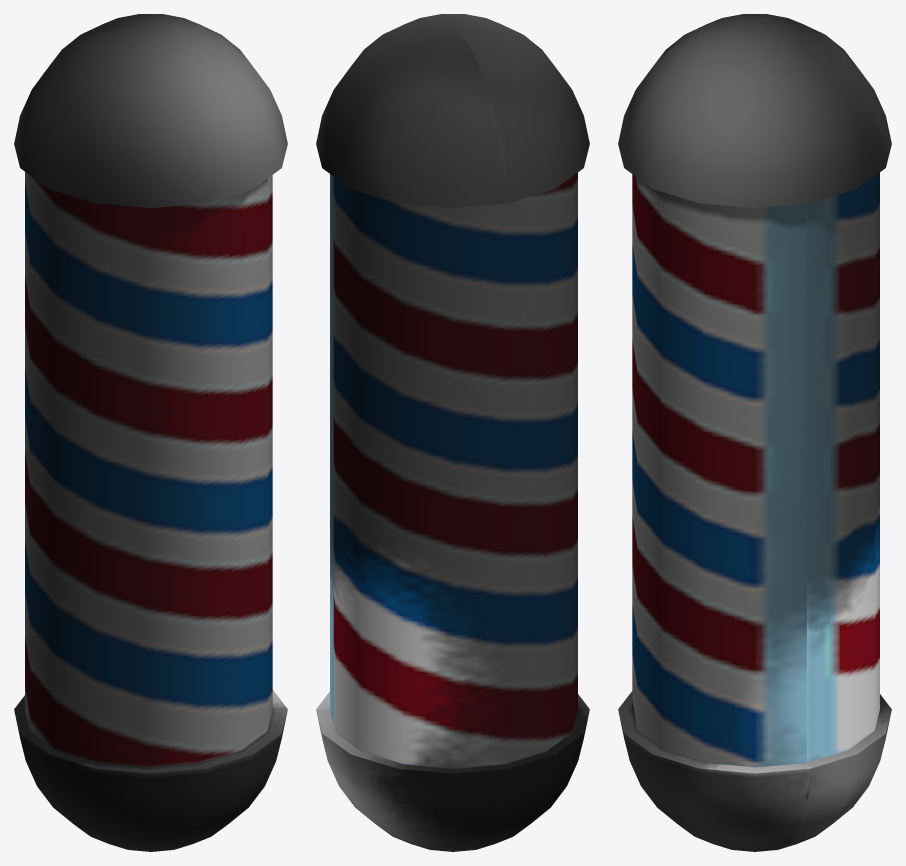
The model's file is Tx_prop_barber_s_pole_3.fbx.
The picture shows the model from 3 angles, left to right: view 1: azimuth 30°, elevation 25°; view 2: azimuth 150°, elevation 25°; view 3: azimuth 270°, elevation 25°; orthographic projection.
Parts seen in each view (by area): view 1: Tx_prop_barber_s_pole; view 2: Tx_prop_barber_s_pole; view 3: Tx_prop_barber_s_pole.
Boxes of the visible parts, x1,y1,x2,y2 form: Tx_prop_barber_s_pole: [14, 14, 287, 851]; Tx_prop_barber_s_pole: [316, 14, 589, 851]; Tx_prop_barber_s_pole: [618, 14, 891, 851].
Size of the model in its own units: 1.76 by 5.81 by 1.77.
